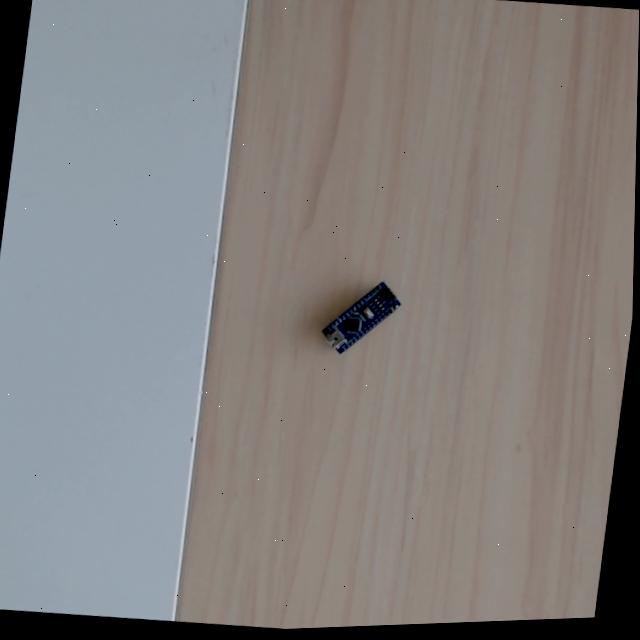Arduino-Nano: (319, 279, 403, 355)
